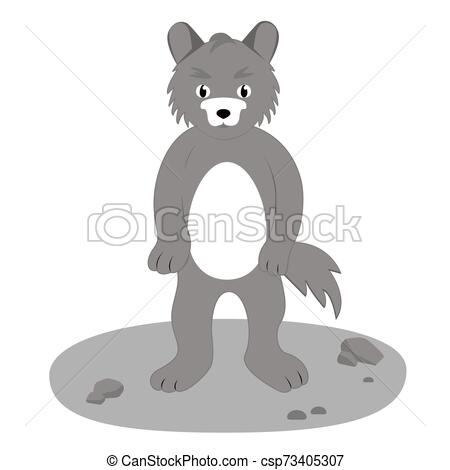Lobo: (135, 21, 356, 384)
